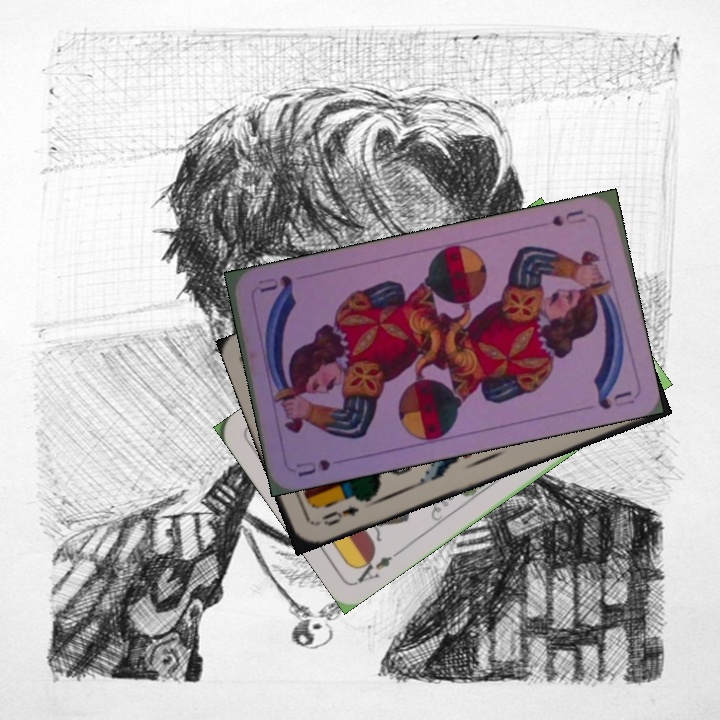EA: (351, 546, 403, 586)
EO: (317, 501, 362, 529)
SU: (292, 455, 333, 480), (548, 205, 588, 229)
